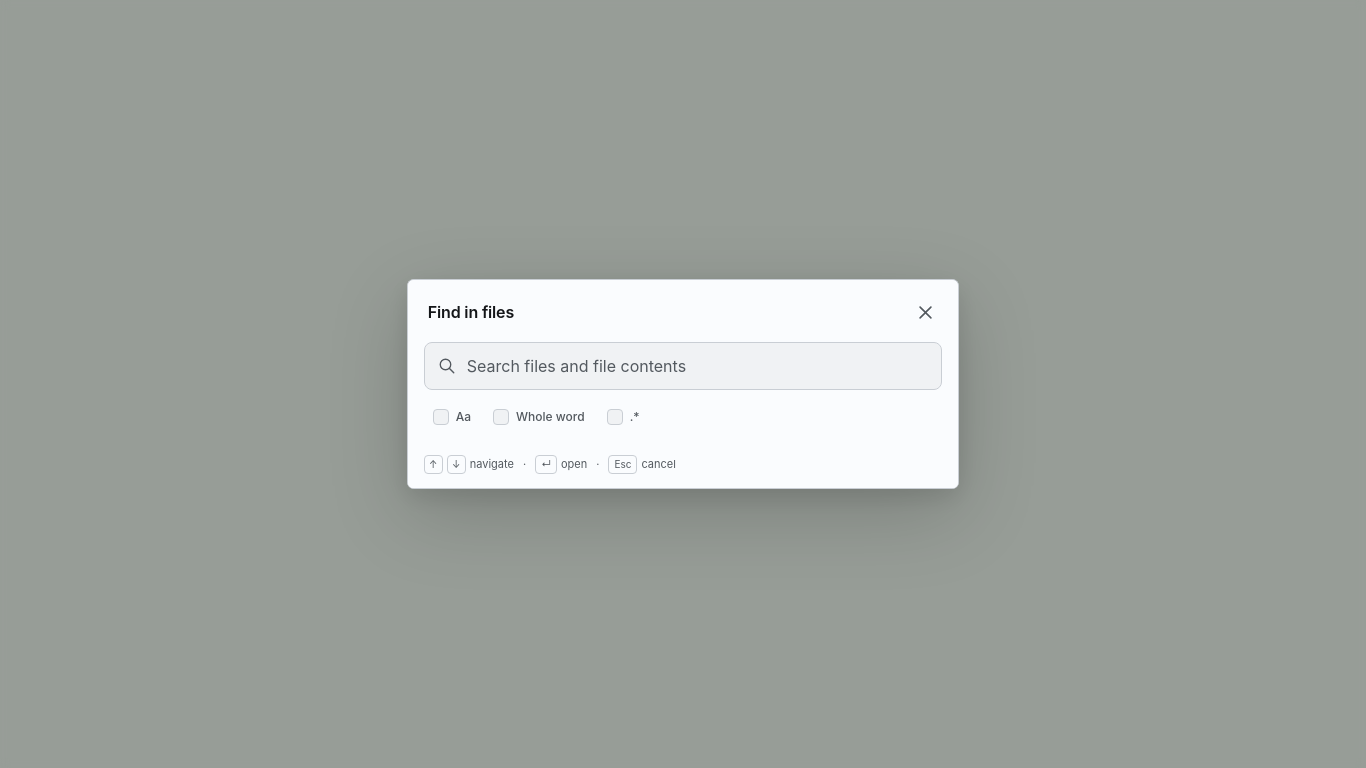
Scenario: TextSearchPalette › ranks fuzzy filename matches as you type
Type "apptsx" into the field with test id "text-search-input" at (683, 366), box [424, 342, 942, 390]
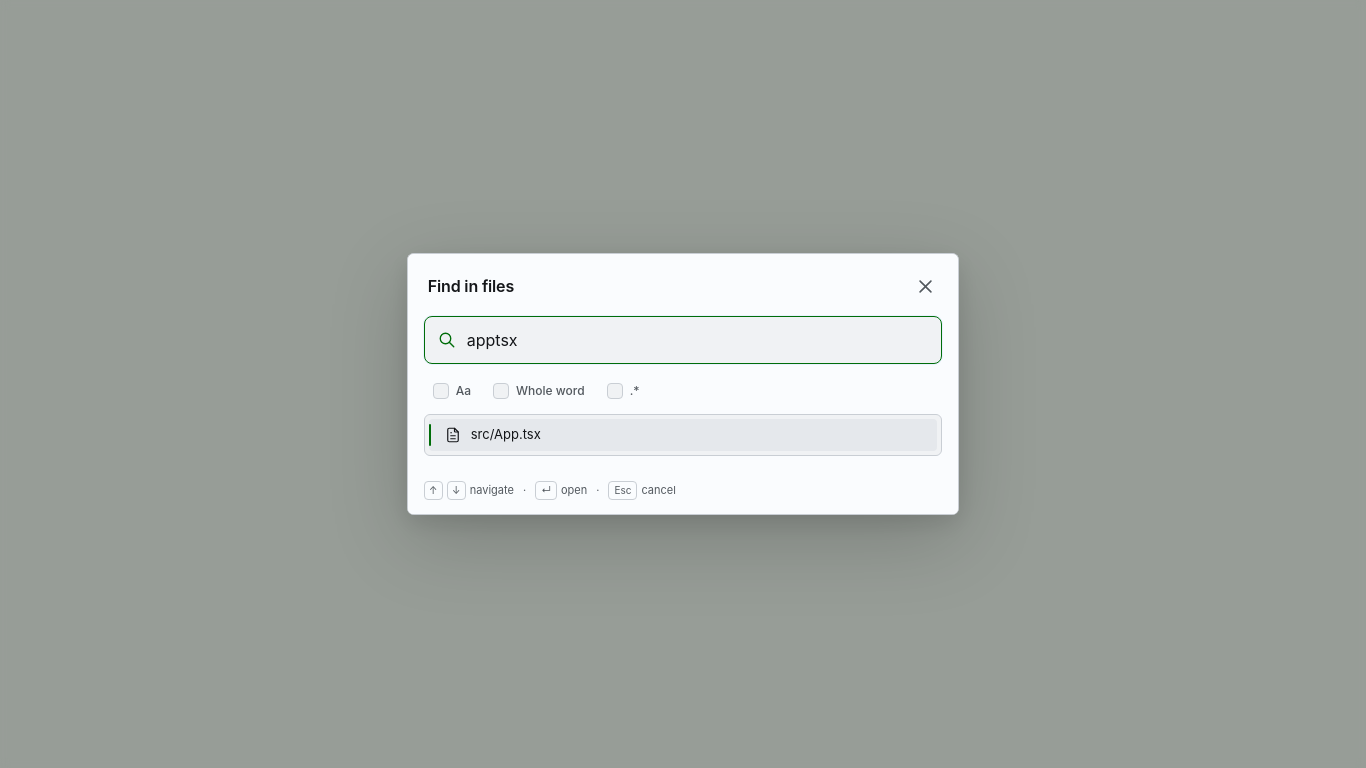
Now the list item with test id "text-search-file-result" reads "src/App.tsx", box [471, 426, 541, 442]
